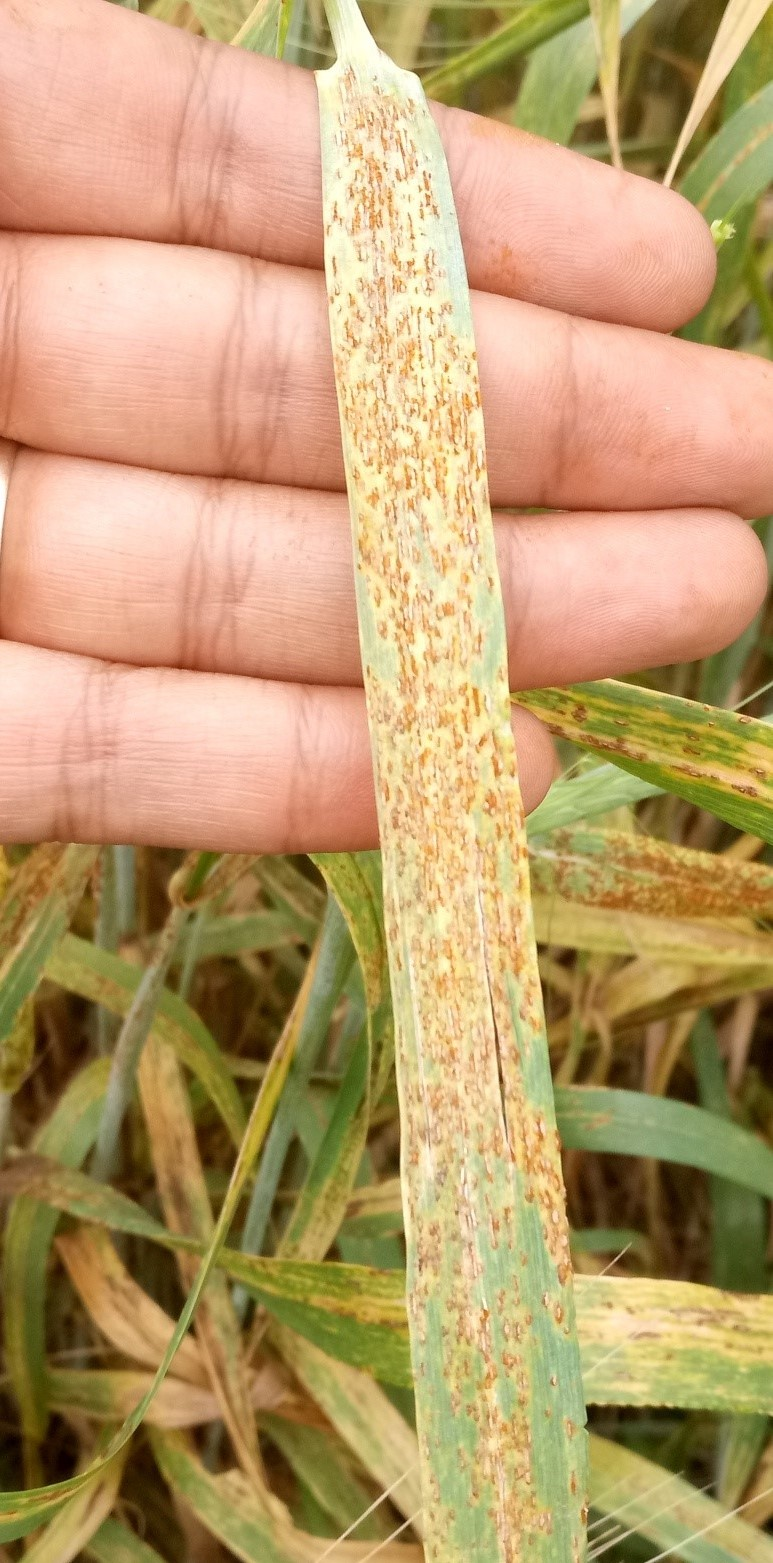Leaf Rust: (309, 162, 600, 1334)
